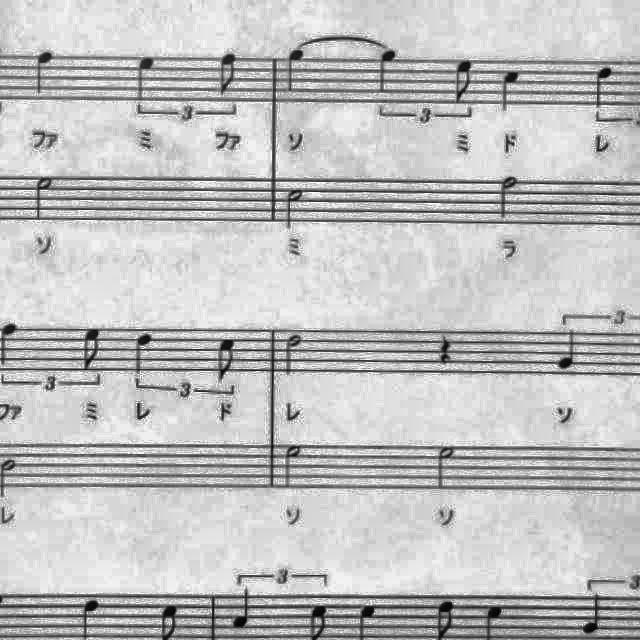Eighth-note: (211, 48, 245, 100), (448, 55, 480, 109), (76, 324, 108, 376), (211, 332, 241, 384), (431, 596, 463, 640), (305, 600, 335, 640), (154, 600, 182, 640)
Half-note: (433, 440, 463, 492), (29, 172, 59, 224), (494, 171, 522, 225), (280, 438, 308, 492), (278, 329, 306, 379), (280, 183, 308, 233)
Quarter-note: (493, 64, 527, 120), (130, 50, 162, 106), (28, 45, 60, 99), (588, 60, 620, 114), (552, 325, 586, 375), (279, 46, 311, 98), (372, 46, 403, 98), (578, 592, 610, 638), (130, 327, 158, 378), (75, 595, 104, 640), (230, 586, 258, 632), (350, 599, 381, 640), (478, 600, 509, 640), (1, 319, 23, 373)
Quarter-rest: (432, 327, 460, 369)
